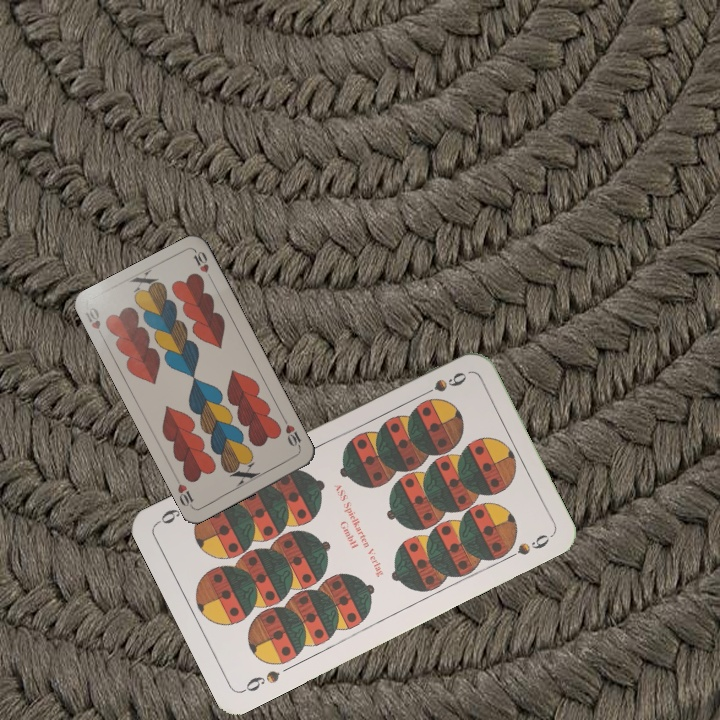H10: (81, 303, 107, 342), (279, 415, 304, 452)
S9: (414, 368, 469, 401), (238, 666, 283, 695)
